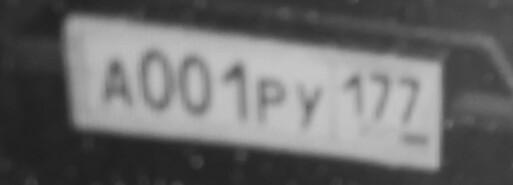license-plateSW: (78, 14, 442, 160)
